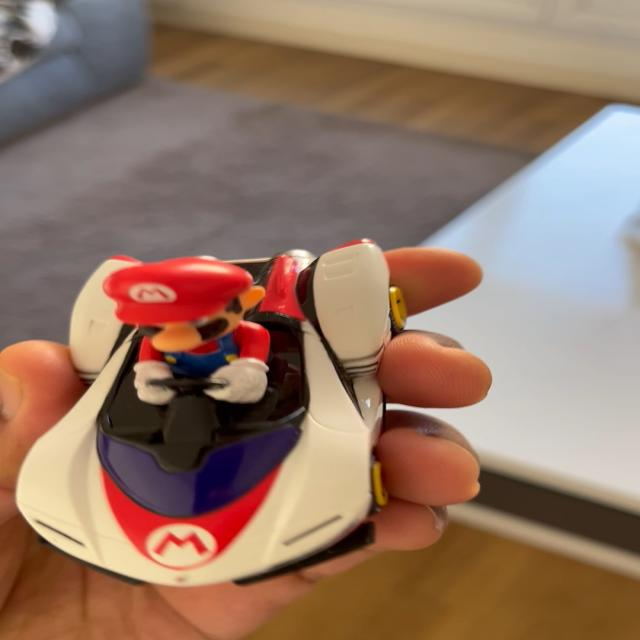mario: (18, 235, 428, 595)
